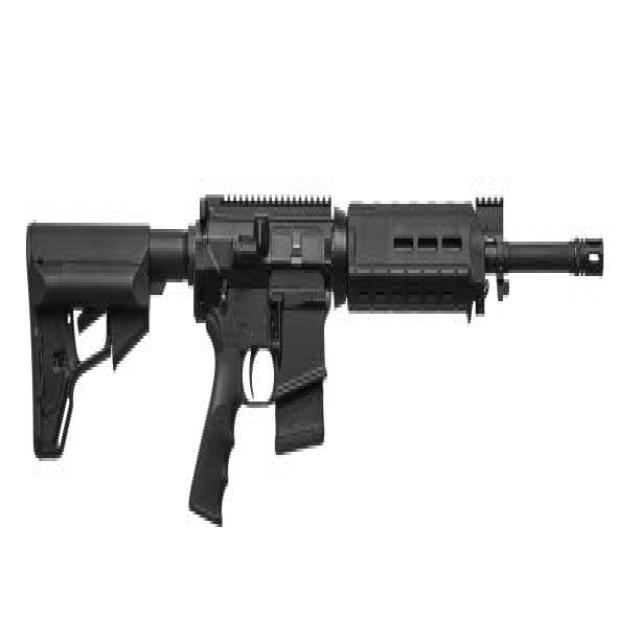rifle: (22, 170, 610, 545)
